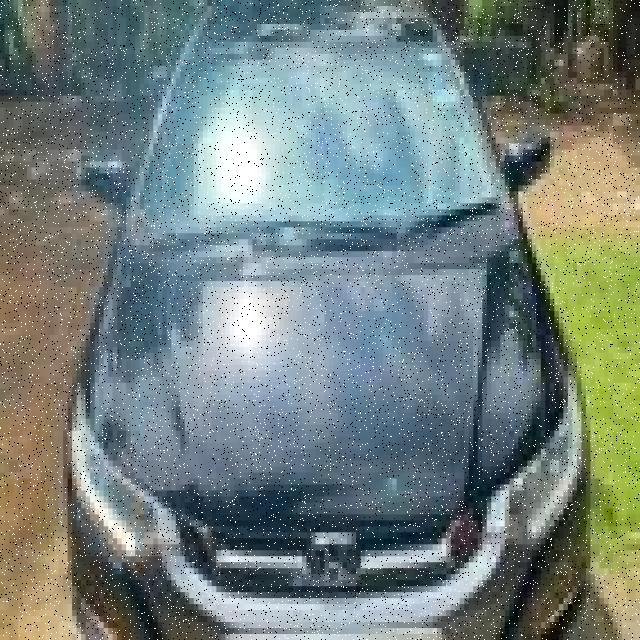car: (46, 1, 596, 640)
